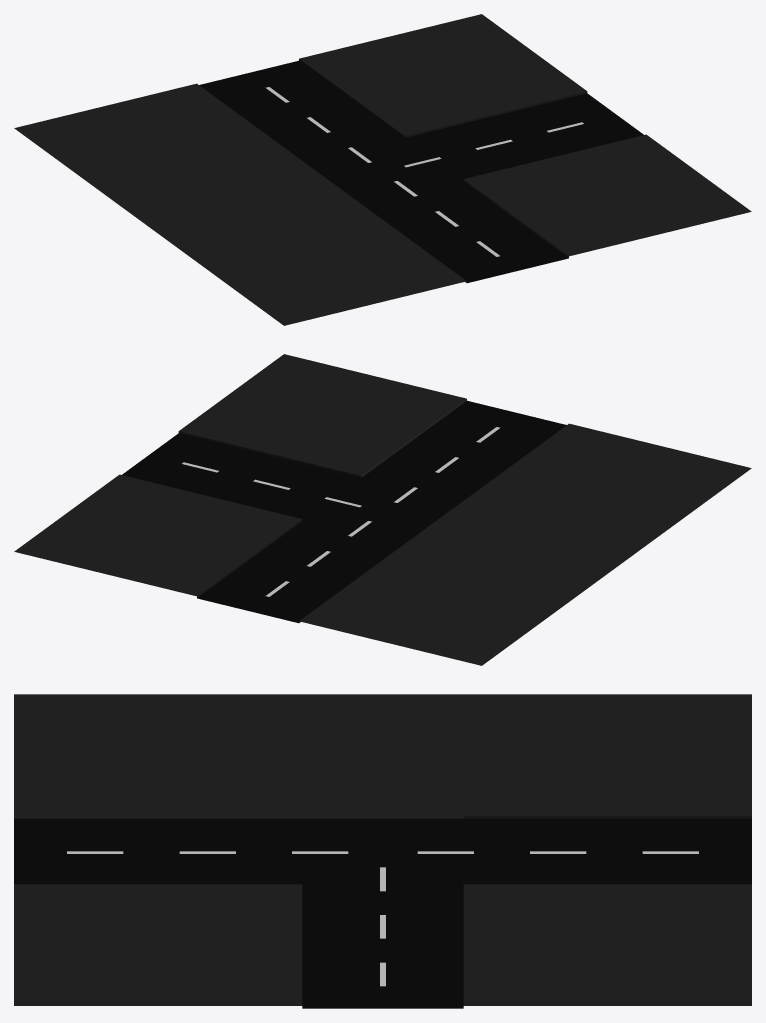
The model's file is Street.002.fbx.
The picture shows the model from 3 angles, top to bottom: view 1: azimuth 30°, elevation 25°; view 2: azimuth 150°, elevation 25°; view 3: azimuth 270°, elevation 25°; orthographic projection. The views are drawn at different scales.
Visible parts, largest first — view 1: Street.002; view 2: Street.002; view 3: Street.002.
Boxes of the visible parts, x1,y1,x2,y2 form: Street.002: (14,14,751,325); Street.002: (14,354,751,665); Street.002: (14,694,751,1008).
Bounding box in the file's own units: 65.27 × 0.2685 × 65.27.
